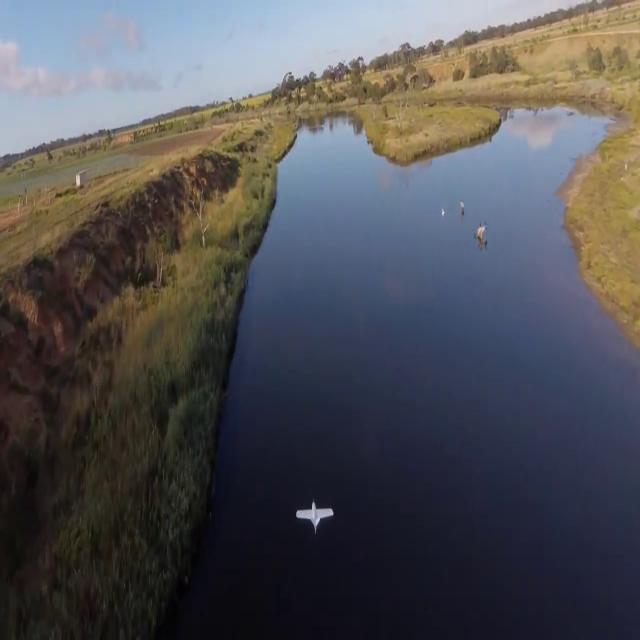iha: (293, 501, 334, 531)
